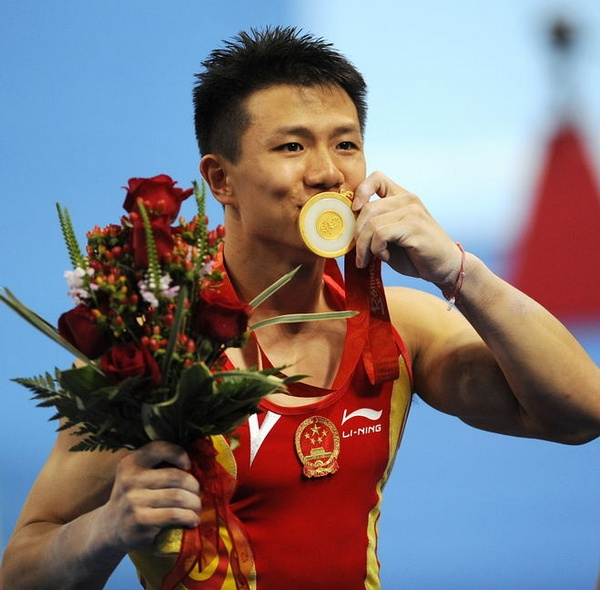face: (236, 73, 365, 250)
